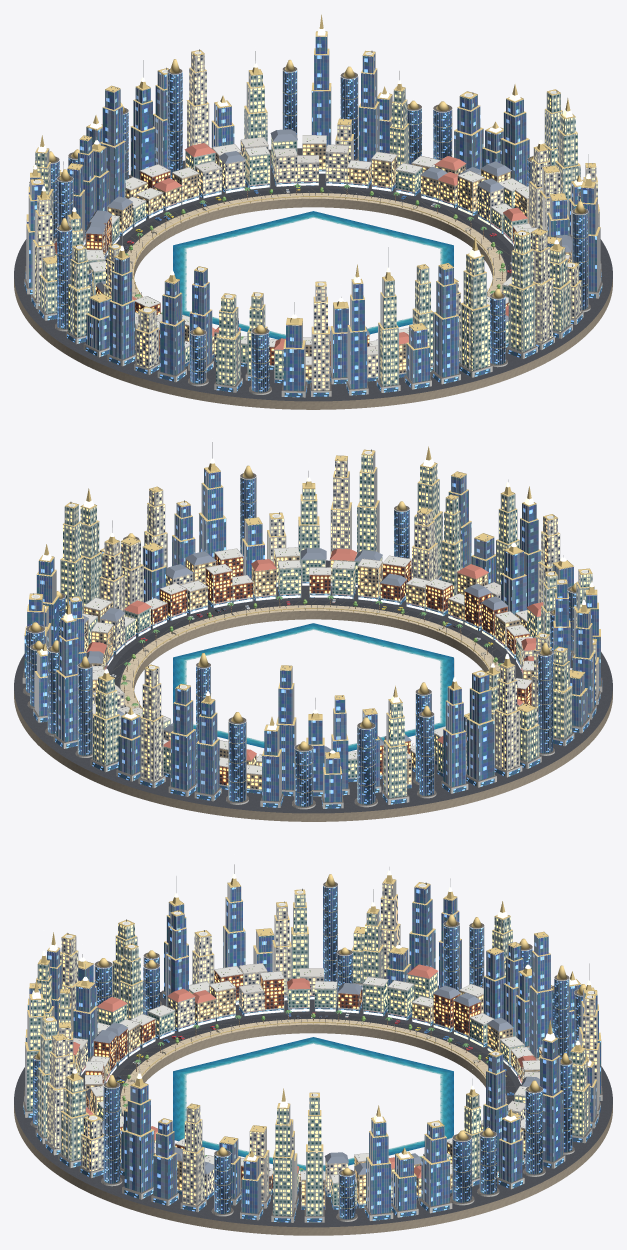
Rendered from dominion_waterfront_city.glb.
3 views of the same model, one above another, from view 1: azimuth 30°, elevation 25°; view 2: azimuth 150°, elevation 25°; view 3: azimuth 270°, elevation 25° (orthographic).
Parts seen in each view (by area): view 1: dominion_waterfront_city__facade_glass, dominion_waterfront_city__steel, dominion_waterfront_city__facade_teal, dominion_waterfront_city__white, dominion_waterfront_city__facade_white, dominion_waterfront_city__gold, dominion_waterfront_city__street, dominion_waterfront_city__quay_stone, dominion_waterfront_city__facade_stone, dominion_waterfront_city__paving_warm, dominion_waterfront_city__water_shore, dominion_waterfront_city__roof_slate (+8 smaller); view 2: dominion_waterfront_city__facade_glass, dominion_waterfront_city__steel, dominion_waterfront_city__facade_teal, dominion_waterfront_city__white, dominion_waterfront_city__facade_white, dominion_waterfront_city__gold, dominion_waterfront_city__street, dominion_waterfront_city__quay_stone, dominion_waterfront_city__facade_brick, dominion_waterfront_city__facade_stone, dominion_waterfront_city__water_shore, dominion_waterfront_city__paving_warm (+8 smaller); view 3: dominion_waterfront_city__facade_glass, dominion_waterfront_city__steel, dominion_waterfront_city__facade_teal, dominion_waterfront_city__white, dominion_waterfront_city__facade_white, dominion_waterfront_city__gold, dominion_waterfront_city__street, dominion_waterfront_city__quay_stone, dominion_waterfront_city__water_shore, dominion_waterfront_city__facade_stone, dominion_waterfront_city__facade_brick, dominion_waterfront_city__paving_warm (+8 smaller).
Boxes of the visible parts, bbox=[...] form: dominion_waterfront_city__facade_glass: bbox=[24, 37, 602, 397]; dominion_waterfront_city__steel: bbox=[26, 34, 600, 392]; dominion_waterfront_city__facade_teal: bbox=[35, 72, 580, 386]; dominion_waterfront_city__white: bbox=[24, 51, 602, 397]; dominion_waterfront_city__facade_white: bbox=[35, 53, 599, 390]; dominion_waterfront_city__gold: bbox=[26, 14, 600, 378]; dominion_waterfront_city__street: bbox=[14, 148, 612, 401]; dominion_waterfront_city__quay_stone: bbox=[14, 199, 612, 409]; dominion_waterfront_city__facade_stone: bbox=[108, 144, 571, 379]; dominion_waterfront_city__paving_warm: bbox=[127, 193, 506, 298]; dominion_waterfront_city__water_shore: bbox=[173, 211, 453, 339]; dominion_waterfront_city__roof_slate: bbox=[49, 87, 592, 361]; dominion_waterfront_city__facade_glass: bbox=[24, 469, 602, 808]; dominion_waterfront_city__steel: bbox=[27, 442, 600, 806]; dominion_waterfront_city__facade_teal: bbox=[60, 455, 594, 798]; dominion_waterfront_city__white: bbox=[22, 451, 602, 809]; dominion_waterfront_city__facade_white: bbox=[92, 461, 596, 781]; dominion_waterfront_city__gold: bbox=[24, 446, 600, 793]; dominion_waterfront_city__street: bbox=[14, 560, 612, 813]; dominion_waterfront_city__quay_stone: bbox=[14, 611, 612, 821]; dominion_waterfront_city__facade_brick: bbox=[151, 553, 531, 785]; dominion_waterfront_city__facade_stone: bbox=[84, 550, 533, 789]; dominion_waterfront_city__water_shore: bbox=[173, 623, 453, 751]; dominion_waterfront_city__paving_warm: bbox=[120, 605, 499, 759]; dominion_waterfront_city__facade_glass: bbox=[23, 885, 600, 1222]; dominion_waterfront_city__steel: bbox=[25, 864, 601, 1219]; dominion_waterfront_city__facade_teal: bbox=[27, 894, 590, 1216]; dominion_waterfront_city__white: bbox=[23, 880, 602, 1222]; dominion_waterfront_city__facade_white: bbox=[47, 883, 597, 1205]; dominion_waterfront_city__gold: bbox=[25, 874, 601, 1208]; dominion_waterfront_city__street: bbox=[14, 985, 612, 1227]; dominion_waterfront_city__quay_stone: bbox=[14, 1024, 612, 1235]; dominion_waterfront_city__water_shore: bbox=[173, 1037, 453, 1171]; dominion_waterfront_city__facade_stone: bbox=[74, 986, 542, 1205]; dominion_waterfront_city__facade_brick: bbox=[85, 970, 480, 1190]; dominion_waterfront_city__paving_warm: bbox=[120, 1019, 506, 1181].
Size of what is drawn, in the model's own units: 45 by 12.57 by 45.
Materials: 39 (14 with a texture image).
